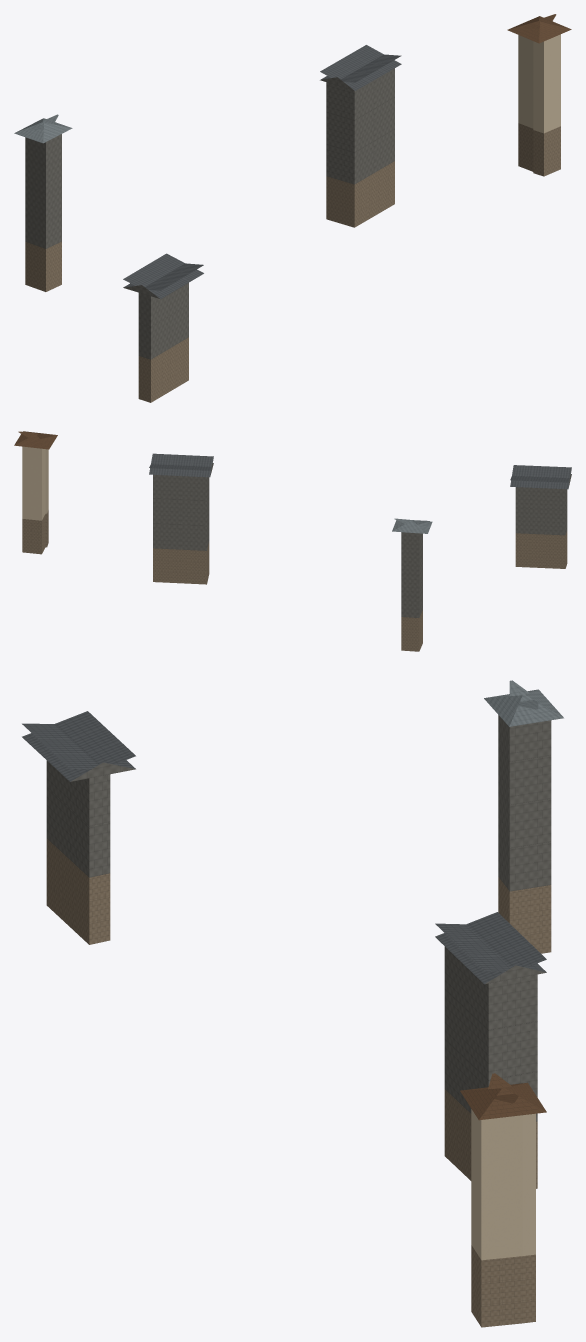
Rendered from bld_c0_-1_539.gltf.
3 views of the same model, one above another, from view 1: azimuth 30°, elevation 25°; view 2: azimuth 150°, elevation 25°; view 3: azimuth 270°, elevation 25° (orthographic). The views are drawn at different scales.
Visible parts, largest first — view 1: bld_c0_-1_539; view 2: bld_c0_-1_539; view 3: bld_c0_-1_539.
Boxes of the visible parts, box(x1,y1,x2,y2) form: bld_c0_-1_539: box(14, 14, 571, 402); bld_c0_-1_539: box(14, 431, 571, 651); bld_c0_-1_539: box(22, 680, 563, 1327).
Bounding box in the file's own units: 71.08 × 19.2 × 37.31.
Materials: 7 (7 with a texture image).
